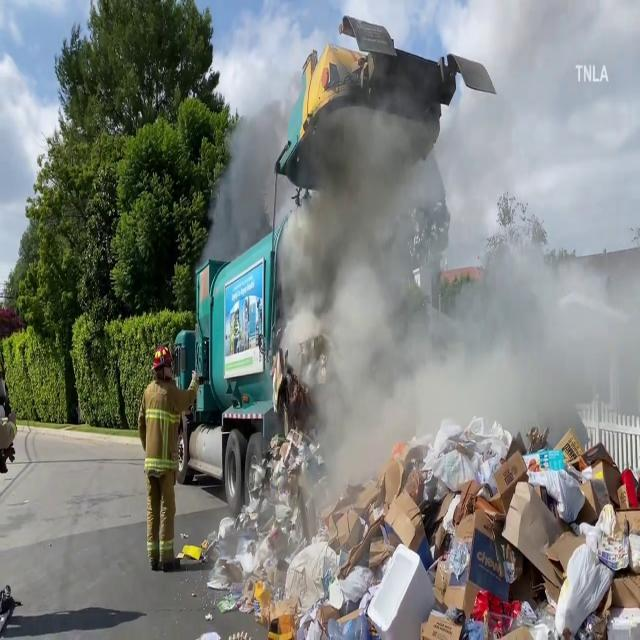Smoke: (269, 54, 640, 480), (202, 79, 290, 272)
